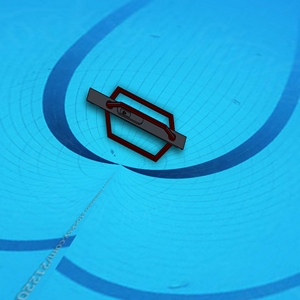submarine: (87, 83, 188, 158)
